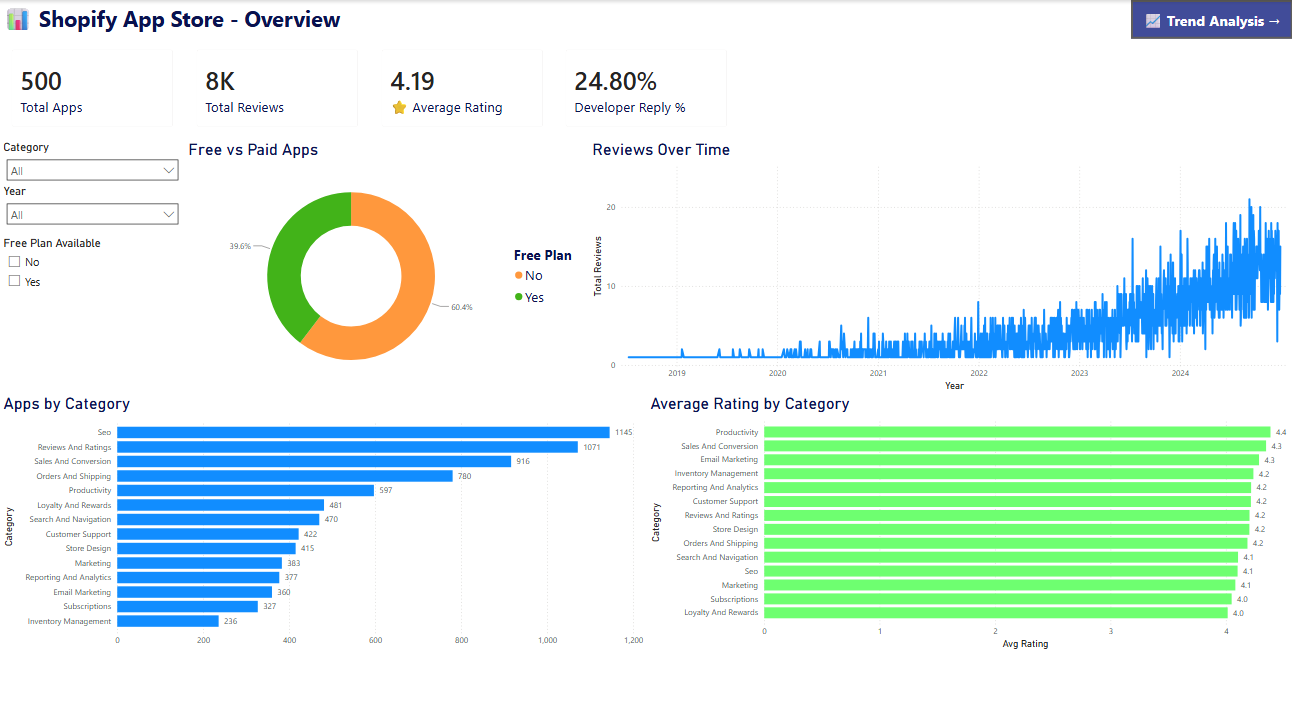

Layout of this report page (visuals, bound fields, positions):
{"tool":"powerbi","page":{"name":"Overview","canvas":[1920,1080],"ordinal":0},"visuals":[{"type":"textbox","box":[0,0,548,57.2],"z":0},{"type":"cardVisual","fields":{"Data":["apps.Total Apps"]},"box":[0,57.2,274.5,149.7],"z":1000},{"type":"cardVisual","fields":{"Data":["apps.Total Reviews"]},"box":[274.5,57.2,274.5,149.7],"z":2000},{"type":"cardVisual","fields":{"Data":["apps.Average Rating (Formatted)"]},"box":[549,57.2,274.5,149.7],"z":3000},{"type":"cardVisual","fields":{"Data":["apps.Developer Reply %"]},"box":[823.5,57.2,274.5,149.7],"z":4000},{"type":"slicer","title":"Category","fields":{"Values":["apps.category_name"]},"box":[0,207.4,274.5,65.5],"z":5000},{"type":"slicer","title":"Year","fields":{"Values":["reviews.review_year"]},"box":[0,272.9,274.5,65.5],"z":6000},{"type":"slicer","title":"Free Plan Available","fields":{"Values":["apps.has_free_plan"]},"box":[0,350.9,274.5,88.9],"z":7000},{"type":"lineChart","title":"Reviews Over Time","fields":{"Category":["reviews.posted_at"],"Y":["apps.Total Reviews"]},"box":[875,207.4,1045,377.4],"z":8000},{"type":"barChart","title":"Apps by Category","fields":{"Category":["apps.category_name"],"Y":["CountNonNull(reviews.app_id)"]},"box":[0,584.9,960.8,383.7],"z":9000},{"type":"barChart","title":"Average Rating by Category","fields":{"Category":["apps.category_name"],"Y":["apps.Avg Rating by Category"]},"box":[960.8,584.9,959.2,383.7],"z":10000},{"type":"donutChart","title":"Free vs Paid Apps","fields":{"Category":["apps.has_free_plan"],"Y":["apps.Total Apps"]},"box":[274.5,207.4,600.5,377.4],"z":11000},{"type":"actionButton","box":[1679.8,0,240.2,57.7],"z":12000}]}

Visuals, with their boxes in screenshot pixels (x1, y1, x2, y2), scaled from the page's 1920x1080 canvas onto the 1292x727 screenshot:
textbox: Rect(0, 0, 369, 39)
cardVisual - apps.Total Apps: Rect(0, 39, 185, 139)
cardVisual - apps.Total Reviews: Rect(185, 39, 369, 139)
cardVisual - apps.Average Rating (Formatted): Rect(369, 39, 554, 139)
cardVisual - apps.Developer Reply %: Rect(554, 39, 739, 139)
"Category" slicer: Rect(0, 140, 185, 184)
"Year" slicer: Rect(0, 184, 185, 228)
"Free Plan Available" slicer: Rect(0, 236, 185, 296)
"Reviews Over Time" lineChart: Rect(589, 140, 1291, 394)
"Apps by Category" barChart: Rect(0, 394, 647, 652)
"Average Rating by Category" barChart: Rect(647, 394, 1291, 652)
"Free vs Paid Apps" donutChart: Rect(185, 140, 589, 394)
actionButton: Rect(1130, 0, 1291, 39)
